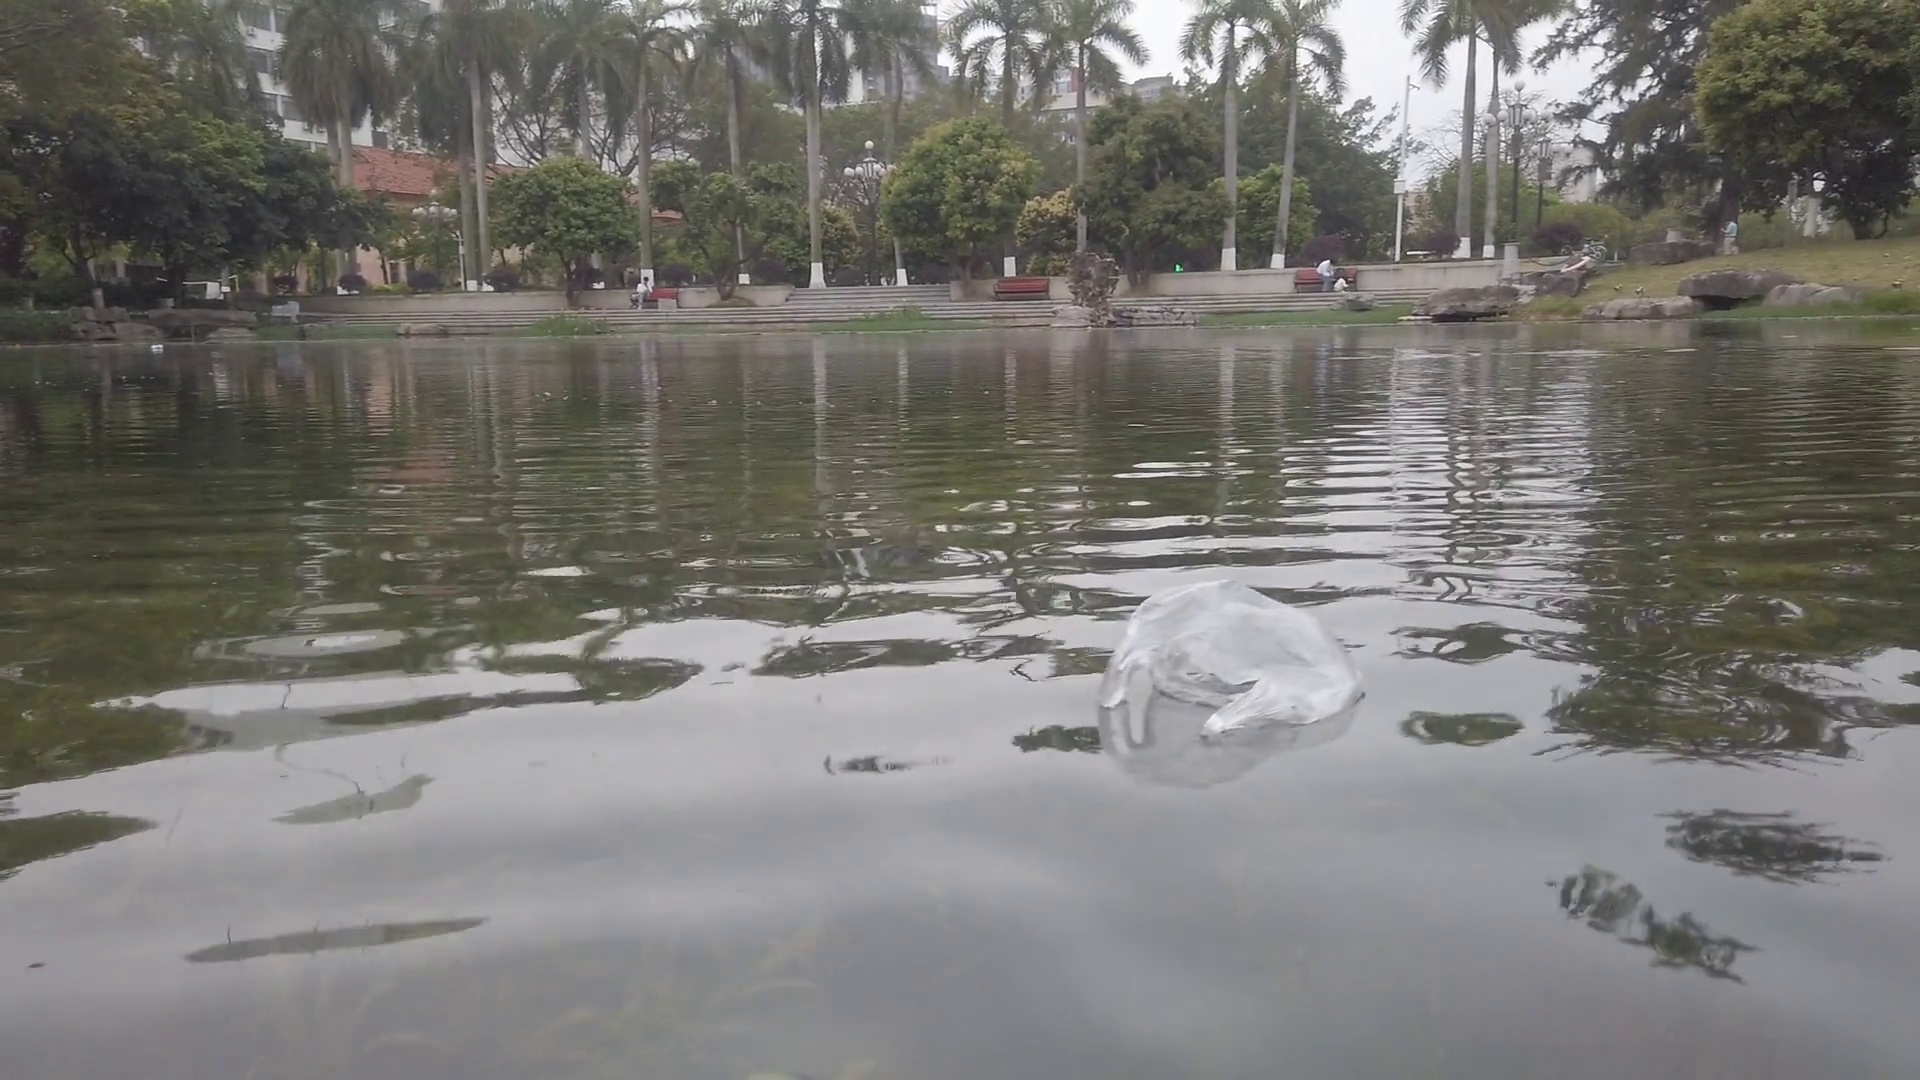bottle: (150, 343, 164, 349)
plastic: (1098, 574, 1360, 737)
